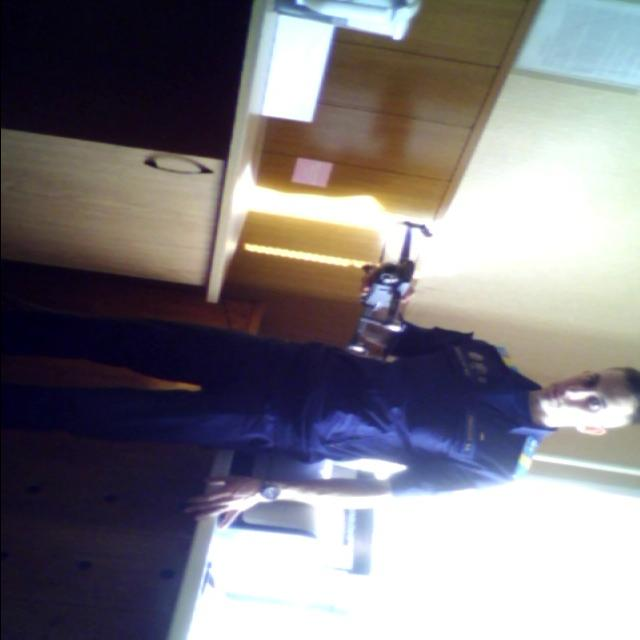drone: (336, 210, 436, 366)
